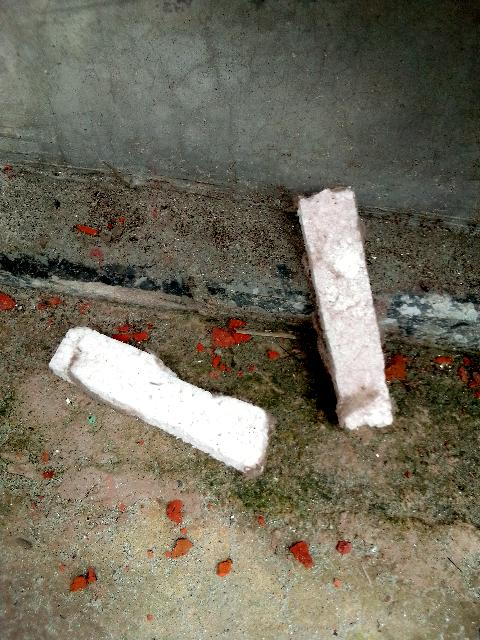cocksheet: (43, 170, 414, 477)
